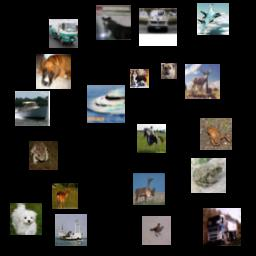airplane: (197, 3, 229, 35)
automobile: (139, 8, 177, 46)
bird: (142, 216, 171, 245)
deer: (185, 64, 220, 99), (133, 173, 165, 205), (52, 183, 78, 209)
dog: (36, 54, 71, 89), (10, 203, 42, 235), (130, 69, 149, 88), (161, 63, 177, 79)
frog: (191, 158, 226, 193), (200, 118, 232, 150), (29, 141, 58, 170)
ship: (87, 85, 125, 123), (15, 91, 50, 126), (55, 214, 87, 246)
truck: (203, 208, 241, 246), (49, 19, 78, 48)
